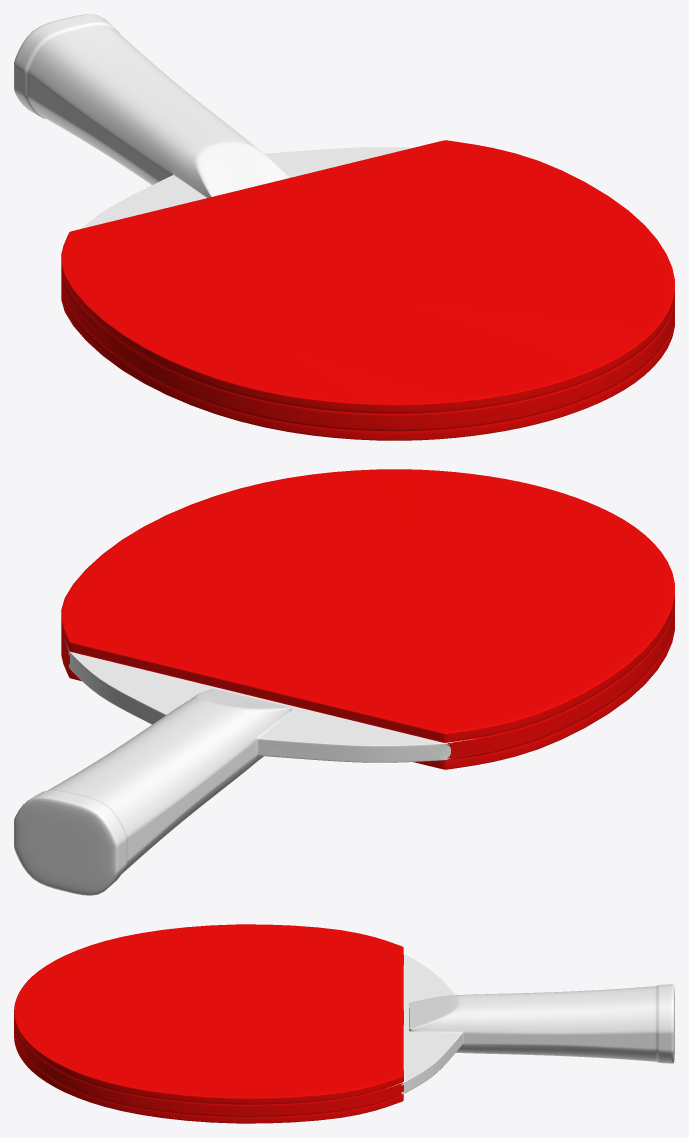
File: Racket1.obj
The picture shows the model from 3 angles, top to bottom: view 1: azimuth 30°, elevation 25°; view 2: azimuth 150°, elevation 25°; view 3: azimuth 270°, elevation 25°; orthographic projection. The views are drawn at different scales.
Parts seen in each view (by area): view 1: racket1; view 2: racket1; view 3: racket1.
Part boxes in pixels (<box>): racket1: <box>14,14,674,440</box>; racket1: <box>14,469,674,895</box>; racket1: <box>14,924,674,1123</box>.
Bounding box in the file's own units: 0.1491 × 0.0255 × 0.2396.
1 material, 1 textured.
